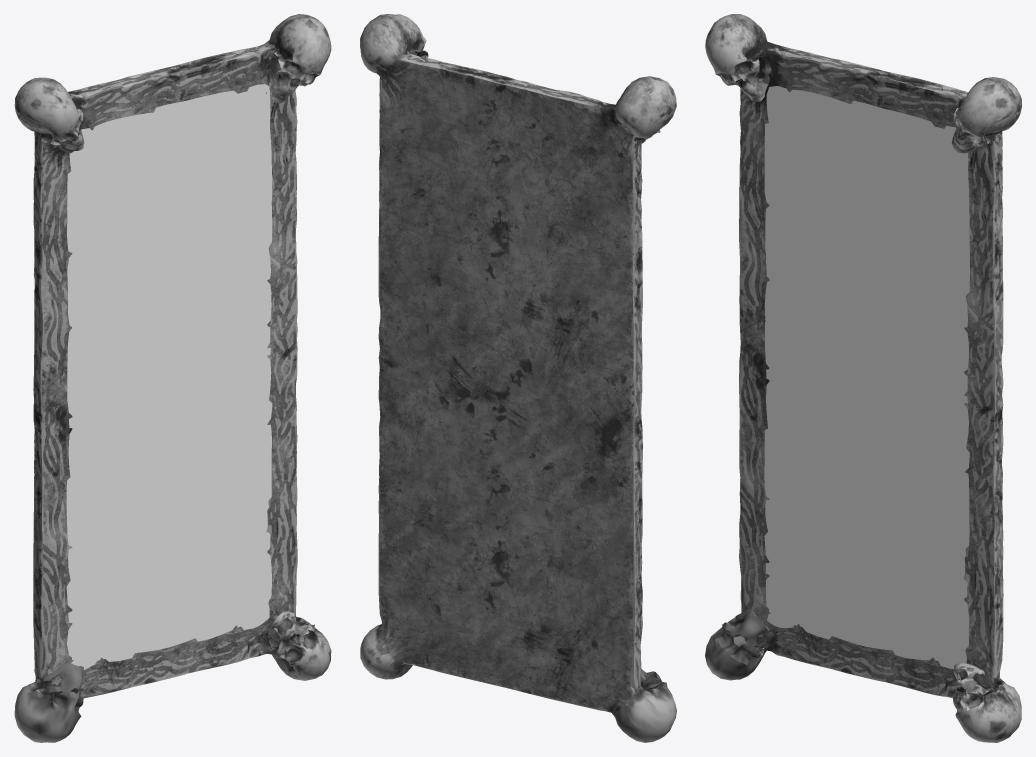
The model's file is mirror.glb.
3 renders of one model, left to right at view 1: azimuth 30°, elevation 25°; view 2: azimuth 150°, elevation 25°; view 3: azimuth 330°, elevation 25°, orthographic.
Parts seen in each view (by area): view 1: Cermin, cermin3; view 2: cermin3; view 3: Cermin, cermin3.
Boxes of the visible parts, left/top/right/bottom form: Cermin: left=66, top=84, right=272, bottom=669; cermin3: left=14, top=14, right=331, bottom=742; cermin3: left=360, top=14, right=676, bottom=742; Cermin: left=764, top=86, right=969, bottom=668; cermin3: left=705, top=14, right=1021, bottom=742.
Size of the model in its own units: 0.8891 by 1.82 by 0.1861.
2 materials, 1 textured.
